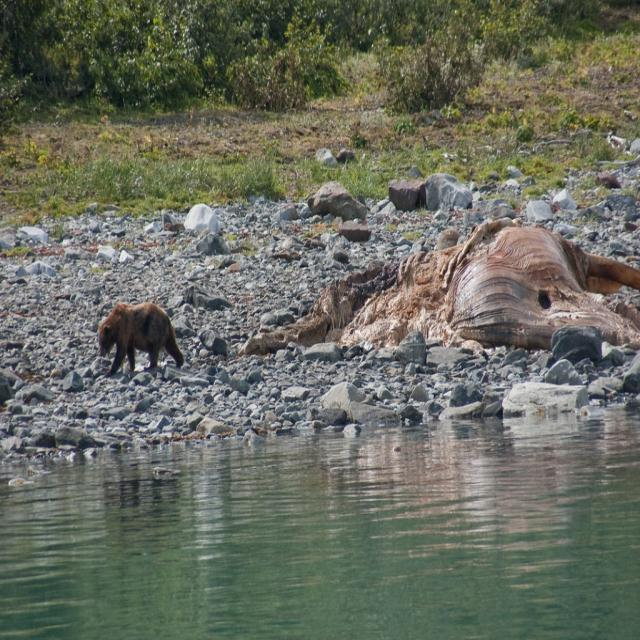Cheetahs: (97, 302, 184, 376)
